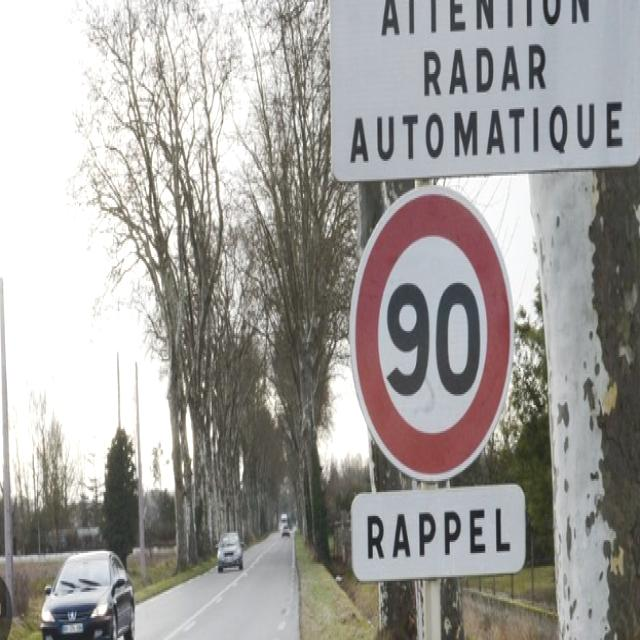speed_90: (352, 182, 515, 482)
